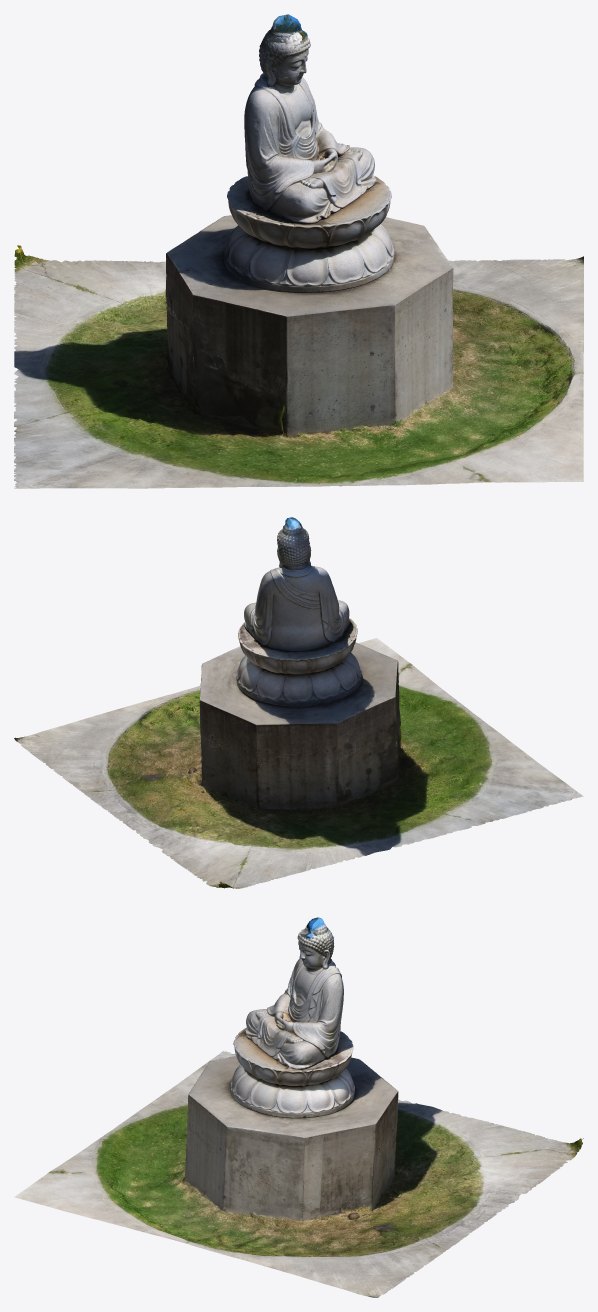
File: stone_buddha_statue.glb
The picture shows the model from 3 angles, top to bottom: view 1: azimuth 30°, elevation 25°; view 2: azimuth 150°, elevation 25°; view 3: azimuth 270°, elevation 25°; orthographic projection. The views are drawn at different scales.
Visible parts, largest first — view 1: Model; view 2: Model; view 3: Model.
Boxes of the visible parts, x1,y1,x2,y2 form: Model: (14,14,583,488); Model: (14,517,583,888); Model: (14,917,583,1297).
Bounding box in the file's own units: 24.37 × 12.52 × 24.37.
Materials: 12 (12 with a texture image).
